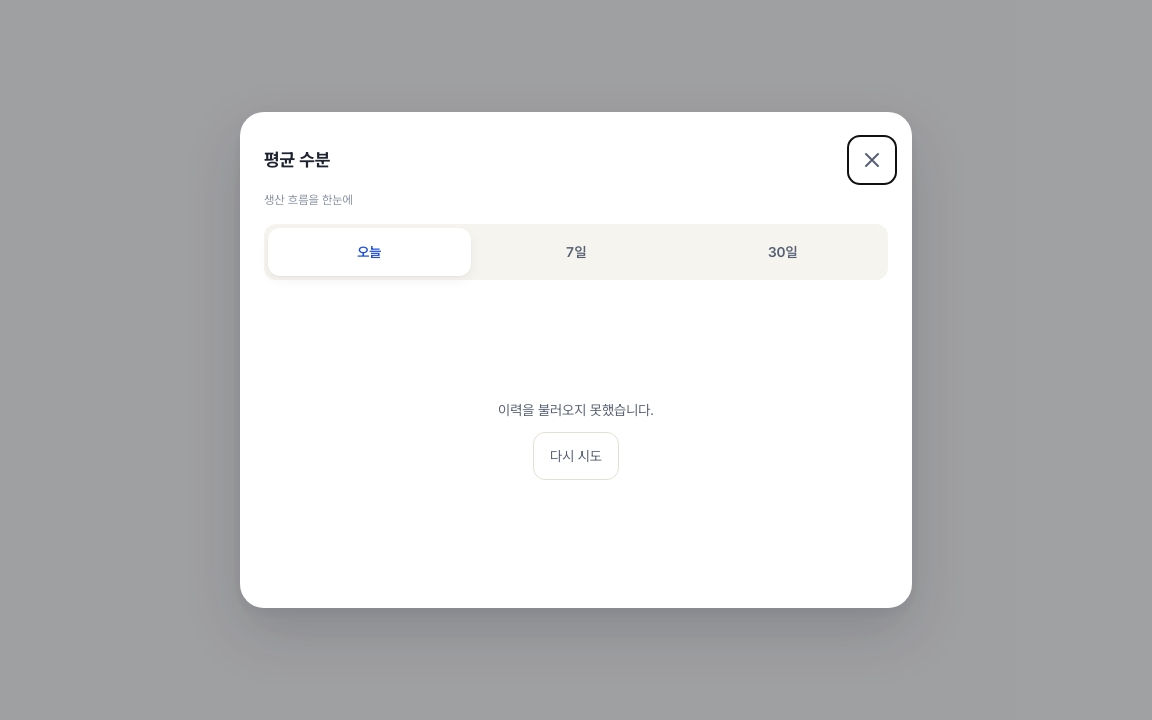
it: KPI 상세 › 실패 후 같은 구간 재시도
Check: the message "이력을 불러오지 못했습니다. 다시 시도" is shown, box [498,402,654,480]
What coordinates should you click on to do the following:
click the button "다시 시도"
I would click on:
 (576, 456)
Its box is [533,432,619,480].
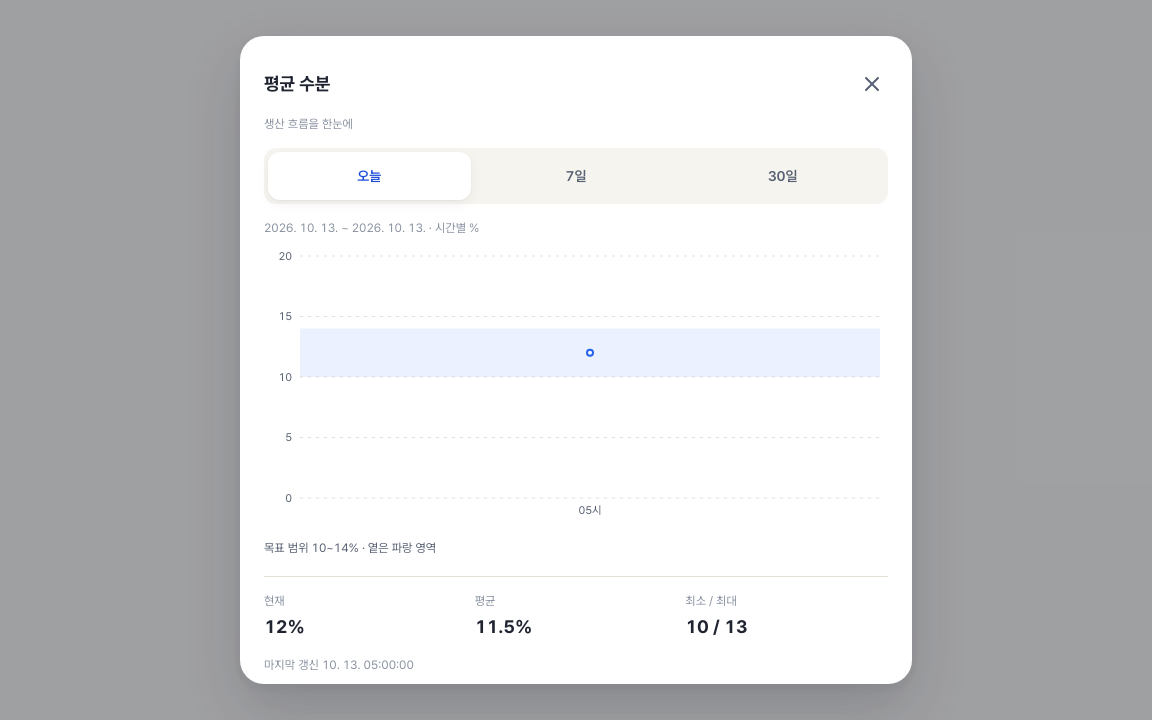
Check: the text "11.5%" is shown, box [475,616,532,637]
